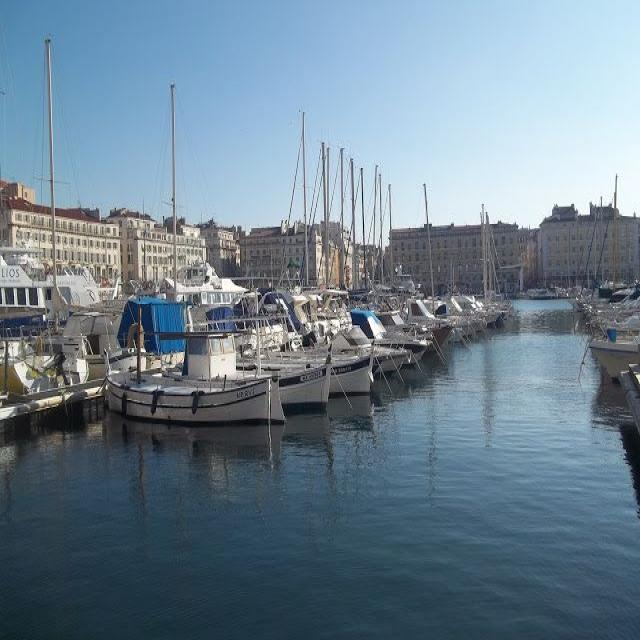houseboat: (94, 334, 281, 434)
